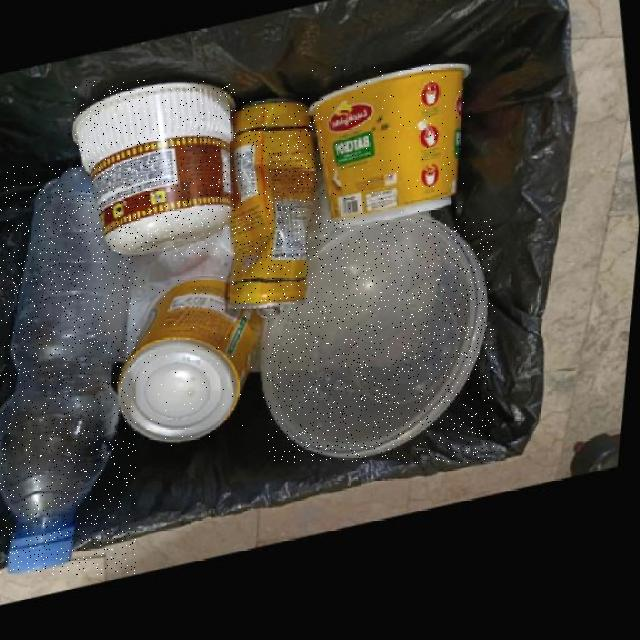metal: (232, 98, 324, 309)
plastic: (0, 167, 136, 575), (268, 220, 495, 463), (74, 81, 242, 256), (312, 65, 472, 231), (122, 276, 269, 446)
